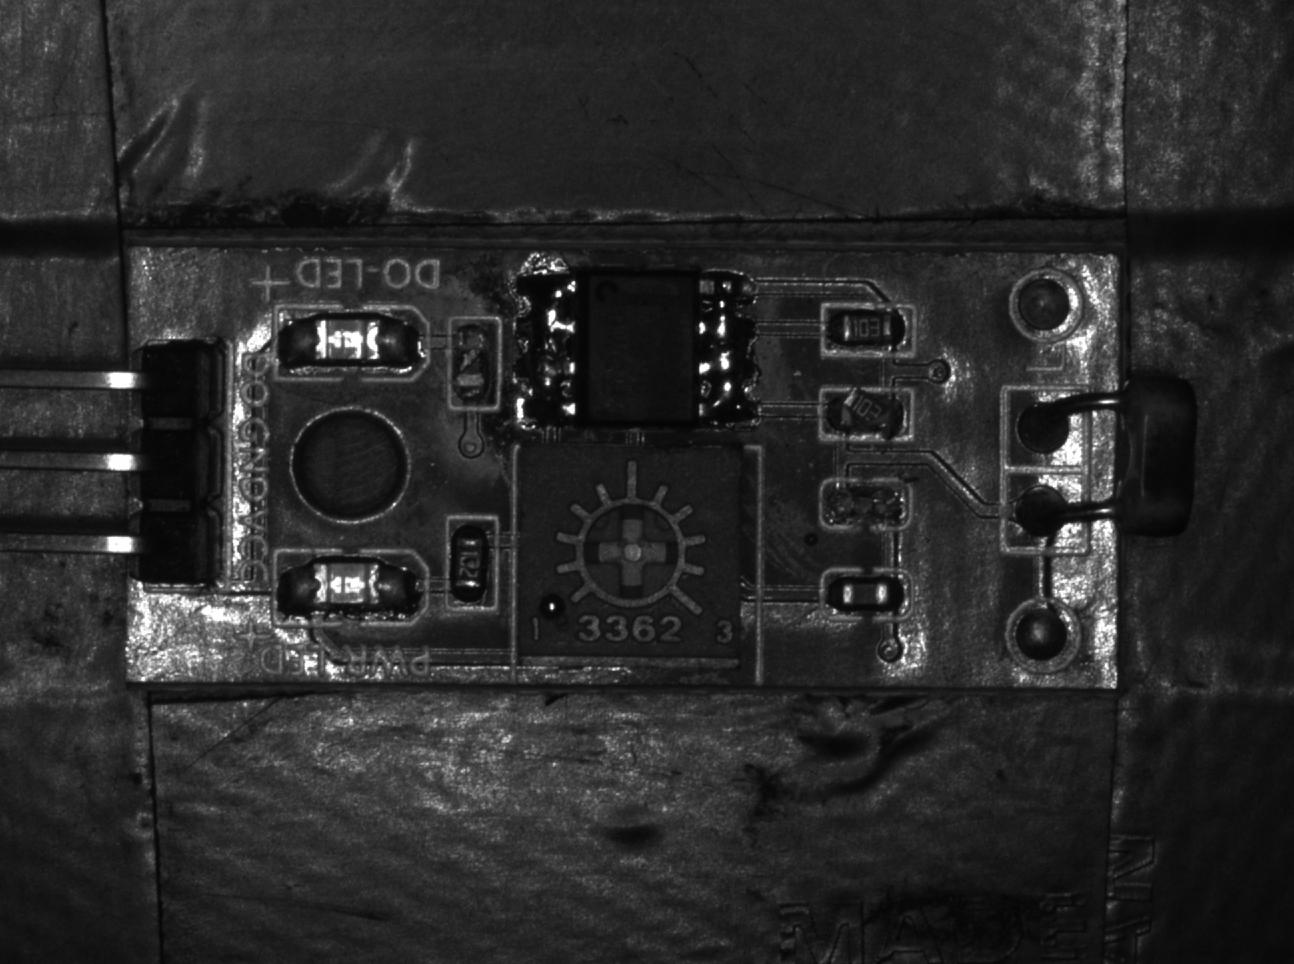bridge: (512, 270, 580, 426), (699, 271, 759, 425)
lifted: (820, 384, 917, 444)
miss: (448, 315, 501, 410), (821, 480, 914, 530)
ok: (446, 514, 497, 609), (821, 303, 914, 354), (821, 570, 910, 621)
